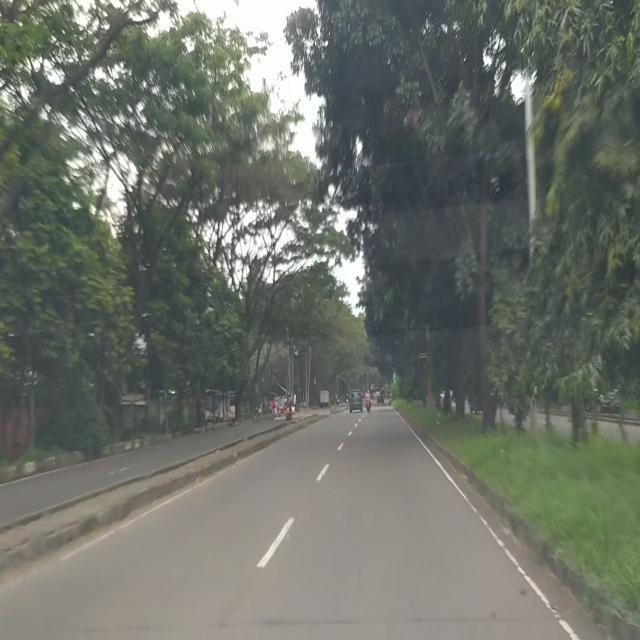Sewer Cover: (250, 618, 554, 634)
